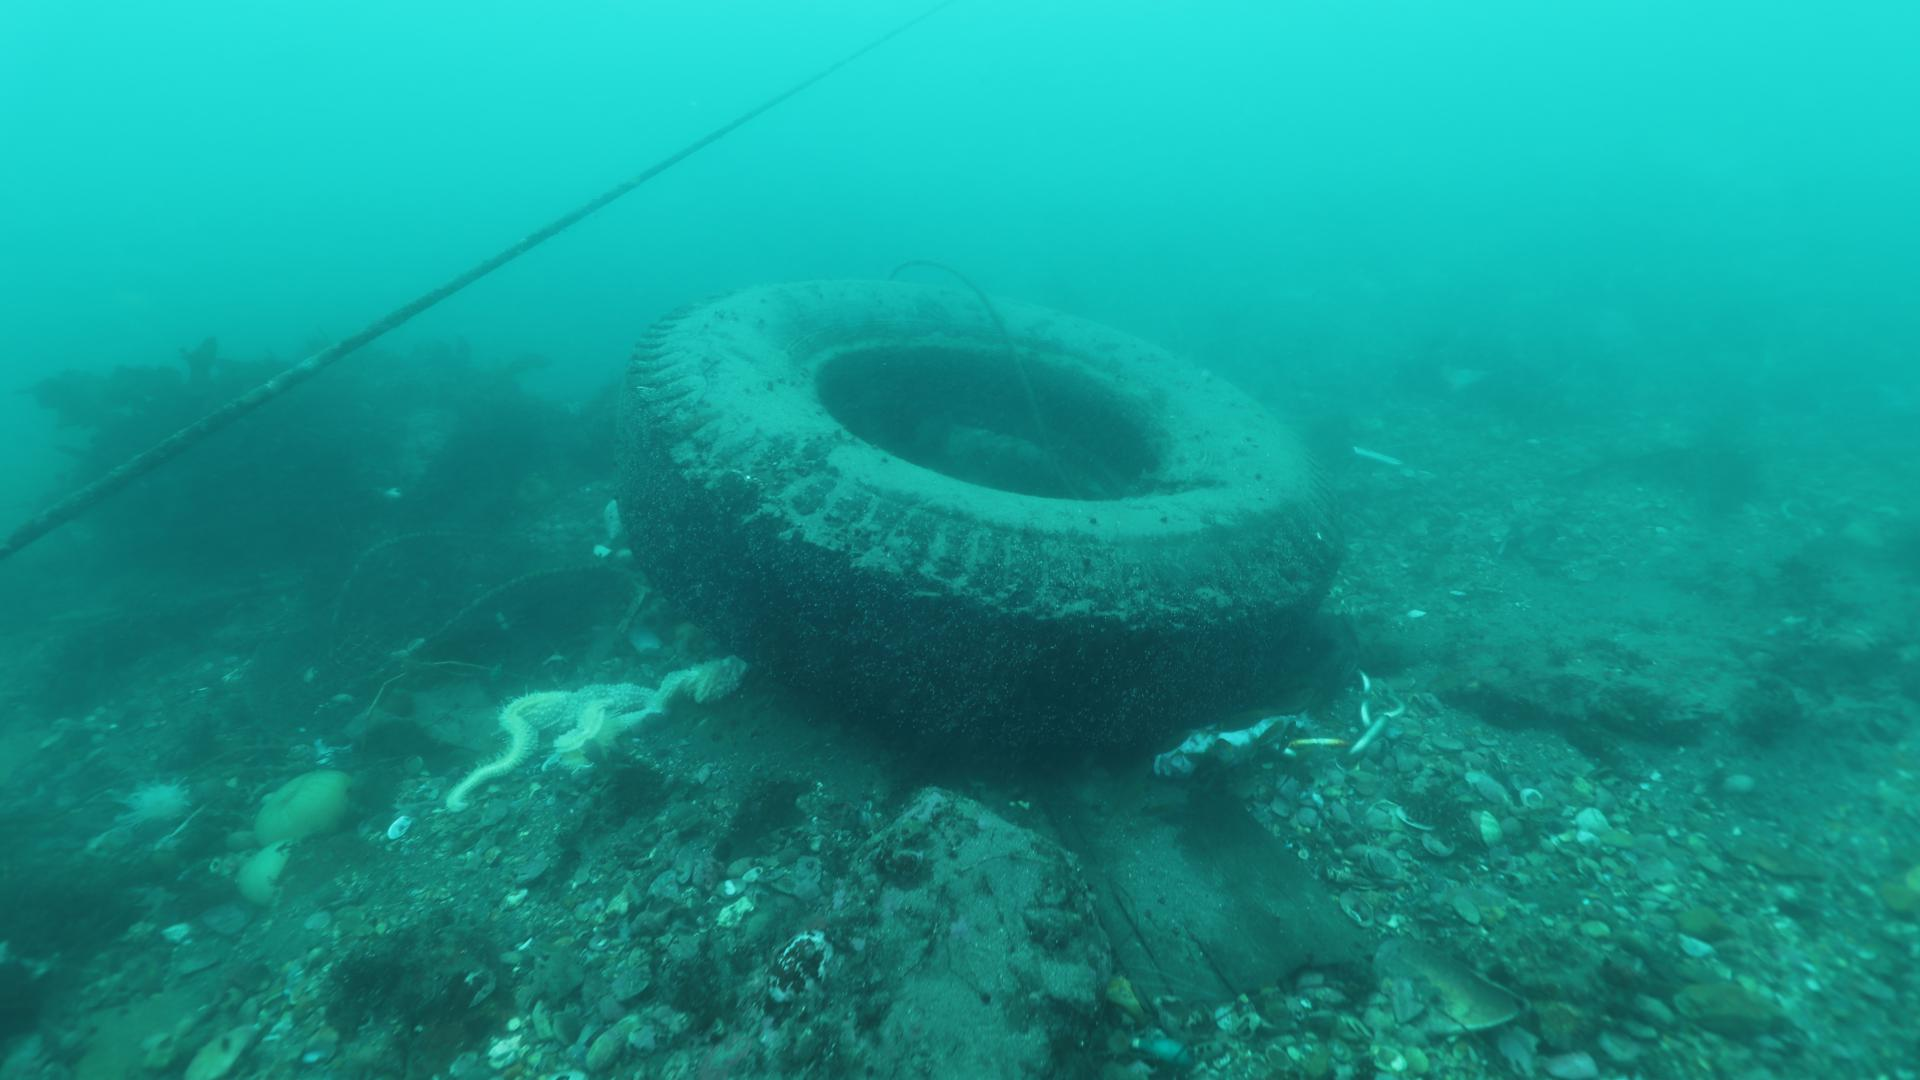tire: (615, 274, 1350, 767)
